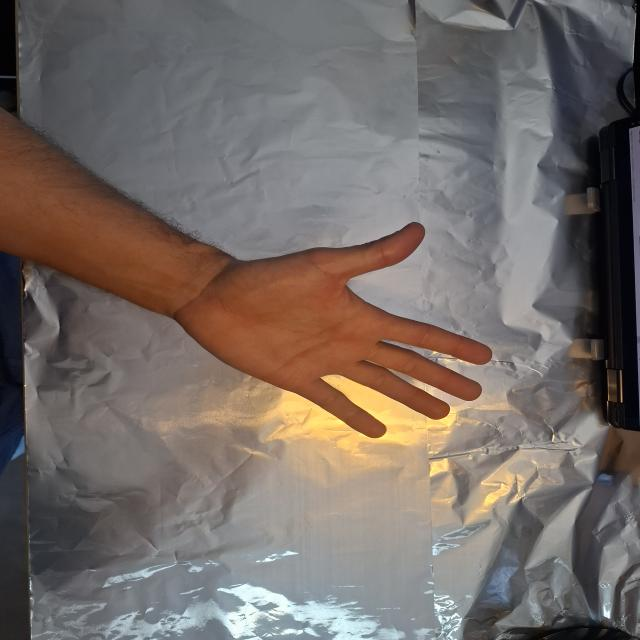glove_off: (173, 220, 497, 441)
